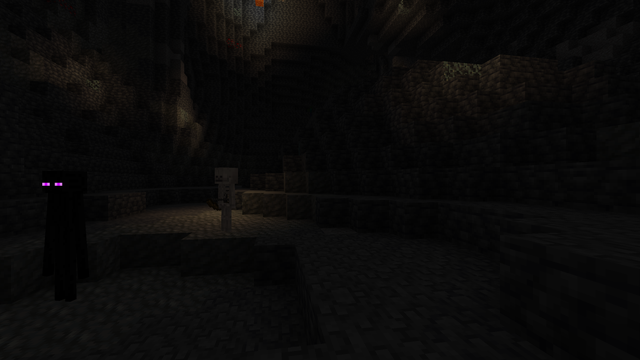endermens: (37, 166, 90, 307)
squelettes: (214, 167, 237, 232)
zombies: (308, 106, 311, 114)
